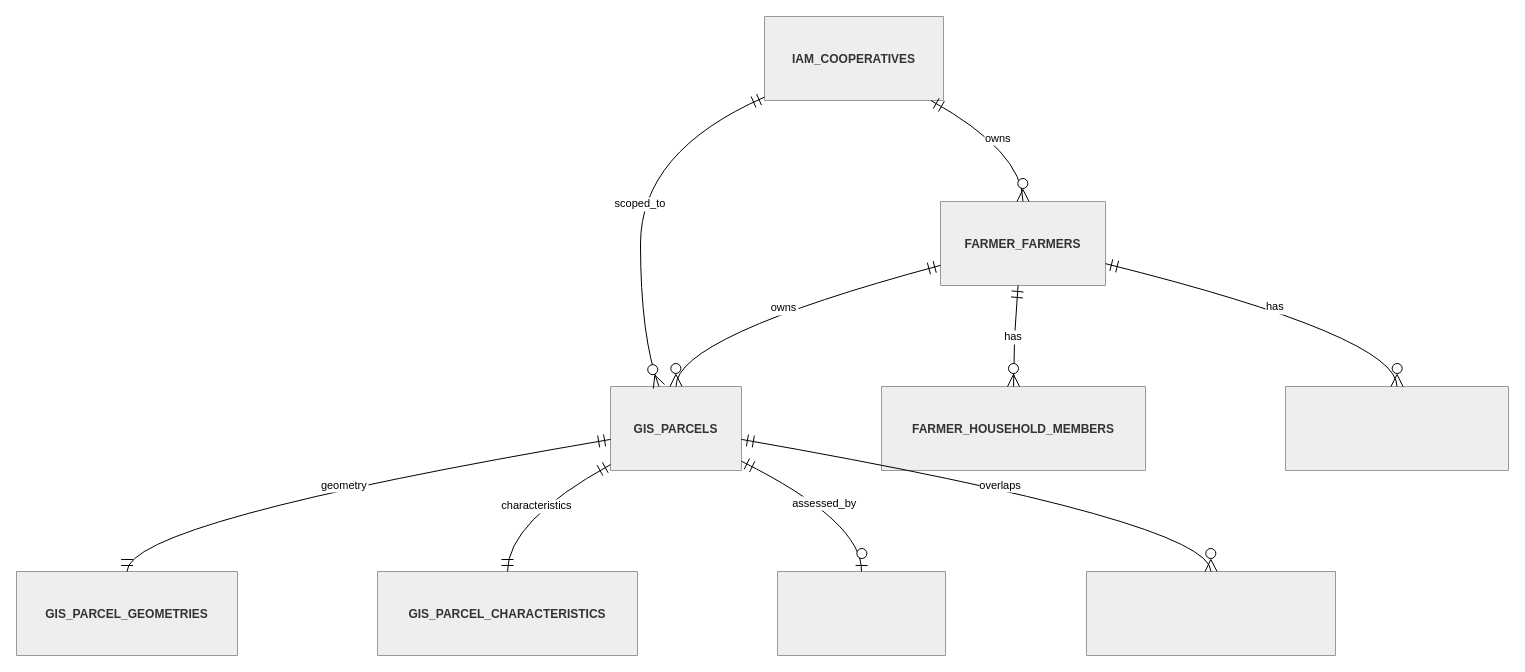
The diagram is 1525 pixels wide and 672 high, and some of its shapes have lost their labels. The shapes that lost their labels are listed below. From the top down, each one's centre as x and y in pixels, then its label:
At point 1396,428: "FARMER_FARMER_PHOTOS".
At point 861,613: "GIS_EUDR_STATUS".
At point 1211,613: "GIS_PARCEL_OVERLAP_FLAGS".
